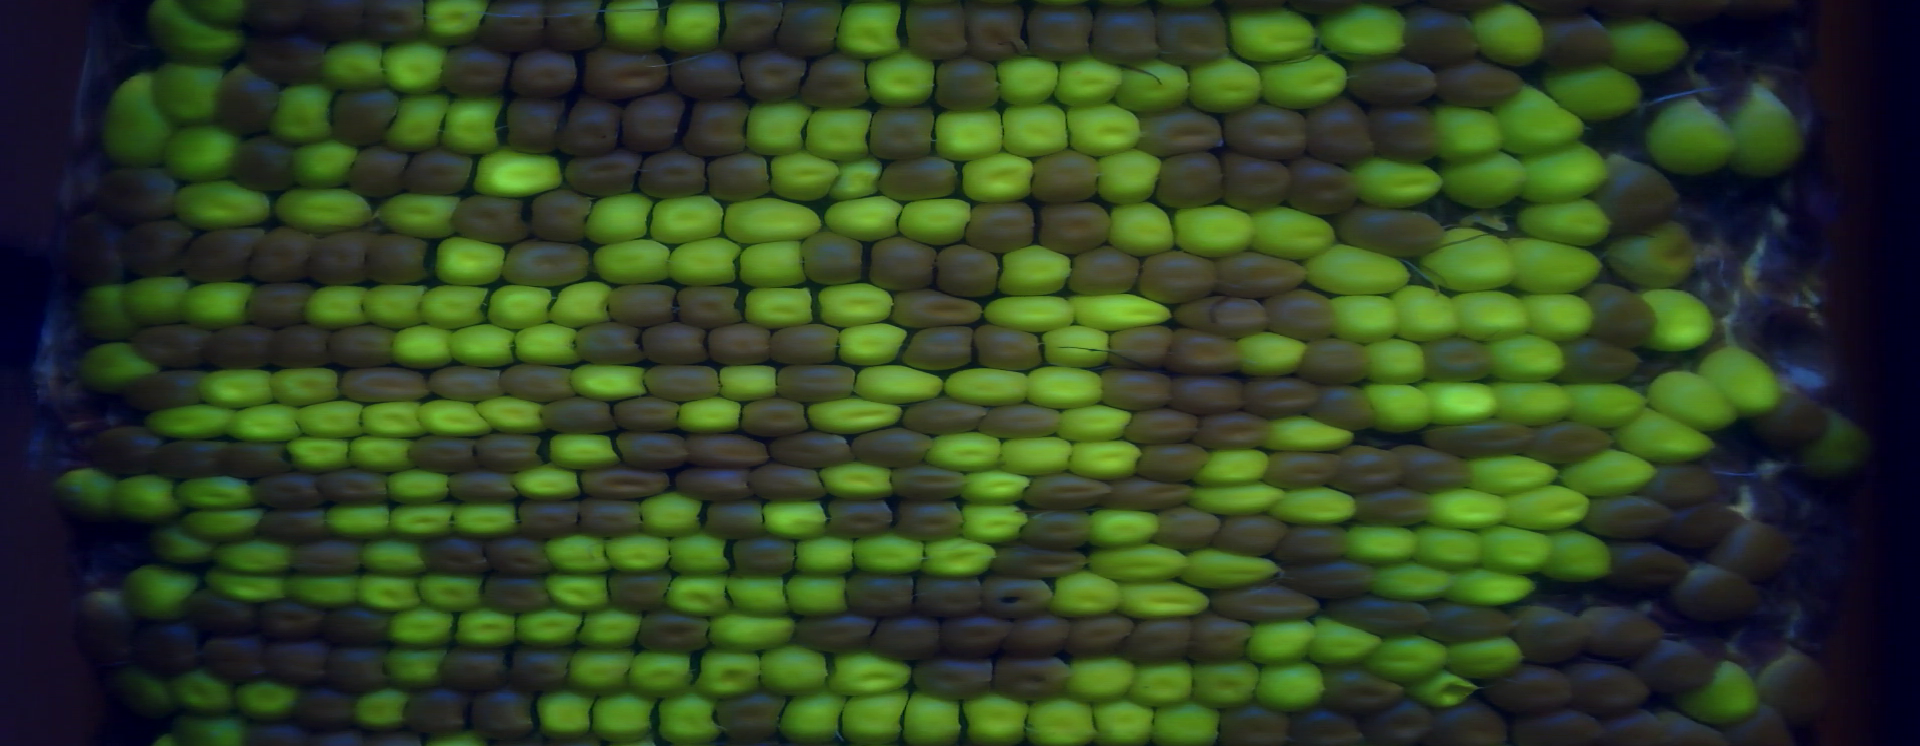fluorescent: (1733, 78, 1805, 180), (1798, 401, 1877, 492), (1653, 102, 1747, 176), (140, 1, 250, 65), (1609, 222, 1700, 296), (1613, 402, 1717, 465), (98, 73, 171, 163), (1221, 1, 1319, 67), (1598, 15, 1695, 80), (1493, 85, 1581, 156), (1646, 369, 1740, 434), (1471, 1, 1551, 76), (1502, 233, 1602, 293), (1267, 477, 1367, 537), (1427, 227, 1521, 289), (1509, 197, 1620, 250), (1679, 661, 1766, 728), (469, 145, 568, 201), (1318, 6, 1412, 65), (1300, 244, 1411, 294), (1438, 149, 1528, 209), (173, 179, 276, 232), (975, 285, 1085, 334), (1704, 345, 1780, 416), (1518, 145, 1608, 205), (1543, 67, 1644, 120), (928, 104, 1011, 167), (1259, 55, 1351, 111), (719, 196, 829, 243), (272, 183, 371, 234), (1069, 285, 1173, 334), (1251, 205, 1340, 262), (1173, 205, 1262, 261), (1537, 528, 1619, 589), (1490, 369, 1580, 424), (1081, 546, 1198, 588), (371, 189, 463, 241), (1640, 288, 1716, 352), (800, 107, 878, 168), (1449, 287, 1536, 342), (1051, 51, 1130, 111), (1555, 450, 1660, 495), (1179, 545, 1278, 593), (1368, 632, 1453, 687), (587, 688, 669, 746), (1431, 99, 1505, 163), (1357, 376, 1436, 435), (1364, 555, 1460, 604), (151, 61, 227, 122), (852, 359, 949, 407), (1420, 488, 1515, 537), (1389, 282, 1460, 347), (1243, 619, 1321, 677), (650, 192, 729, 251), (1310, 612, 1382, 676), (956, 692, 1041, 746), (828, 648, 918, 698), (1318, 289, 1406, 341), (1517, 290, 1603, 343), (836, 688, 915, 746), (163, 118, 238, 178), (1420, 375, 1507, 426), (430, 230, 511, 285), (943, 359, 1038, 405), (1101, 200, 1178, 257), (1000, 100, 1071, 163), (958, 153, 1040, 207), (1356, 156, 1445, 205), (774, 688, 850, 746), (269, 81, 339, 143), (1060, 102, 1141, 156), (820, 194, 905, 245), (1464, 451, 1569, 492), (1058, 650, 1136, 706), (180, 274, 258, 330), (1187, 59, 1262, 115), (1116, 579, 1215, 622), (1189, 655, 1266, 710), (896, 194, 975, 247), (732, 240, 811, 294), (1445, 563, 1533, 611), (1024, 363, 1109, 412), (632, 489, 711, 541), (1117, 61, 1193, 116), (1441, 638, 1531, 685), (1262, 414, 1365, 454), (289, 138, 367, 191), (863, 51, 938, 107), (624, 646, 699, 701), (1564, 379, 1649, 426), (1046, 570, 1131, 617), (1093, 151, 1166, 207), (386, 93, 453, 153), (1018, 695, 1096, 746), (894, 687, 962, 746), (111, 472, 186, 526), (662, 568, 737, 622), (996, 246, 1078, 295), (1040, 322, 1119, 372), (1489, 332, 1569, 382), (707, 608, 800, 650), (651, 684, 715, 746), (1365, 331, 1433, 390), (812, 281, 899, 326), (213, 534, 300, 579), (1251, 664, 1330, 714), (1477, 523, 1551, 576), (122, 565, 197, 617), (697, 646, 769, 699), (1499, 483, 1584, 528), (567, 356, 653, 402), (1145, 696, 1222, 746), (415, 279, 489, 332), (53, 465, 121, 522), (1187, 481, 1288, 519), (602, 1, 672, 56), (478, 390, 547, 445), (448, 604, 527, 653), (1127, 655, 1198, 709), (564, 644, 636, 698), (542, 429, 624, 475), (506, 604, 588, 650), (446, 323, 523, 372), (1342, 521, 1425, 566), (186, 499, 269, 544), (119, 277, 200, 323), (109, 665, 179, 719), (438, 92, 500, 153), (1233, 328, 1311, 376), (758, 644, 836, 692), (589, 236, 673, 281), (991, 58, 1067, 107), (1406, 666, 1485, 713), (381, 320, 454, 370), (918, 532, 996, 579), (299, 281, 376, 328), (989, 435, 1078, 477), (599, 530, 680, 576), (361, 281, 432, 332), (767, 151, 839, 201), (804, 392, 900, 430), (924, 428, 1007, 472), (744, 281, 818, 330), (842, 1, 905, 59), (660, 1, 725, 56), (580, 192, 651, 243), (140, 401, 236, 437), (81, 339, 159, 385), (508, 322, 587, 367), (381, 39, 449, 91), (744, 99, 807, 156), (720, 571, 790, 621), (1086, 696, 1156, 746), (169, 669, 239, 719), (835, 322, 912, 367), (1412, 522, 1489, 567), (953, 502, 1030, 548), (1063, 437, 1144, 480), (416, 396, 497, 439), (321, 39, 389, 89), (533, 687, 601, 737), (675, 393, 748, 440), (669, 529, 733, 582), (507, 463, 587, 506), (78, 284, 146, 334), (1051, 403, 1136, 442), (816, 462, 901, 501), (760, 492, 829, 541), (195, 367, 283, 405), (358, 394, 429, 441), (354, 566, 425, 612), (781, 570, 849, 619), (1198, 446, 1276, 488), (231, 677, 301, 724), (574, 601, 640, 650), (489, 281, 553, 330), (850, 533, 931, 572), (353, 684, 413, 736), (343, 434, 418, 475), (552, 283, 621, 328), (269, 358, 338, 403), (422, 1, 489, 48), (449, 499, 520, 541), (384, 497, 457, 539), (546, 527, 609, 575), (358, 535, 433, 575), (542, 570, 610, 614), (222, 403, 305, 439), (388, 465, 459, 507), (326, 499, 397, 540), (382, 643, 447, 688), (217, 568, 291, 608), (154, 519, 216, 567), (718, 361, 784, 405), (175, 710, 257, 746), (170, 472, 249, 508), (387, 608, 457, 648), (284, 573, 366, 608), (791, 537, 861, 576), (1086, 508, 1155, 548), (418, 571, 481, 611), (283, 435, 350, 473), (958, 470, 1036, 502), (296, 402, 366, 437), (830, 153, 883, 200), (176, 1, 249, 31)
nonfluorescent: (1599, 157, 1685, 236), (1330, 206, 1447, 262), (1145, 4, 1236, 73), (1311, 657, 1408, 720), (1395, 1, 1487, 67), (1363, 96, 1449, 165), (1671, 562, 1764, 624), (1758, 388, 1836, 461), (1138, 243, 1220, 309), (1712, 516, 1795, 579), (1015, 1, 1095, 67), (872, 147, 965, 203), (1559, 657, 1651, 713), (1322, 590, 1433, 637), (1762, 655, 1836, 725), (577, 47, 676, 98), (951, 1, 1030, 66), (1221, 103, 1309, 160), (1423, 416, 1538, 461), (1480, 666, 1583, 715), (181, 227, 268, 284), (1213, 579, 1318, 627), (1089, 1, 1163, 67), (866, 99, 942, 164), (500, 236, 595, 288), (1631, 632, 1709, 695), (900, 1, 975, 66), (960, 197, 1038, 258), (1512, 604, 1596, 661), (1526, 416, 1613, 472), (1134, 107, 1227, 158), (1586, 282, 1658, 348), (869, 233, 944, 296), (885, 283, 987, 330), (1307, 99, 1376, 167), (866, 610, 953, 664), (1164, 293, 1262, 341), (616, 91, 691, 153), (1204, 246, 1307, 292), (707, 692, 797, 744), (913, 653, 998, 708), (471, 1, 552, 59), (62, 213, 124, 289), (779, 1, 849, 67), (431, 637, 511, 695), (467, 685, 544, 744), (1344, 58, 1441, 104), (1033, 197, 1109, 256), (1220, 149, 1287, 216), (1539, 13, 1618, 70), (1603, 538, 1678, 597), (1430, 58, 1522, 105), (1393, 439, 1480, 489), (1162, 325, 1248, 375), (637, 146, 711, 203), (125, 220, 200, 278), (682, 96, 749, 159), (476, 571, 557, 624), (1021, 472, 1120, 514), (667, 49, 752, 99), (1354, 696, 1439, 746), (96, 169, 186, 216), (1153, 148, 1224, 207), (242, 33, 334, 78), (1586, 494, 1675, 540), (216, 67, 280, 131), (80, 589, 132, 668), (1029, 149, 1103, 205), (324, 635, 393, 695), (1187, 610, 1256, 669), (182, 583, 266, 632), (200, 323, 280, 374), (1255, 284, 1336, 334), (800, 51, 873, 107), (798, 230, 866, 290), (931, 58, 1005, 111), (331, 92, 405, 146), (362, 230, 432, 288), (263, 635, 333, 692), (992, 541, 1091, 582), (913, 571, 989, 624), (1584, 606, 1660, 659), (844, 428, 934, 472), (336, 361, 429, 404), (504, 93, 568, 156), (899, 321, 976, 372), (197, 632, 274, 684), (708, 146, 781, 200), (562, 151, 651, 195), (1297, 334, 1371, 387), (719, 1, 789, 58), (735, 394, 817, 442), (991, 653, 1073, 701), (451, 195, 527, 246), (1063, 244, 1139, 295), (256, 593, 332, 644), (938, 614, 1011, 666), (1653, 457, 1727, 510), (738, 51, 808, 107), (129, 322, 218, 365), (680, 428, 771, 469), (504, 50, 587, 97), (1431, 699, 1513, 746), (1283, 157, 1356, 209), (573, 465, 676, 502), (722, 532, 800, 581), (1561, 336, 1638, 385), (1237, 371, 1320, 416), (558, 103, 628, 157), (91, 423, 160, 477), (1506, 710, 1611, 746), (791, 610, 878, 653), (637, 610, 721, 654), (1109, 473, 1191, 518), (1309, 381, 1381, 432), (1422, 603, 1513, 643), (400, 684, 469, 737), (1059, 610, 1133, 660), (1671, 502, 1749, 550), (845, 570, 920, 619), (1000, 614, 1071, 665), (936, 241, 1002, 296), (978, 402, 1065, 443), (1213, 702, 1296, 746), (973, 320, 1043, 371), (1129, 615, 1195, 669), (1270, 519, 1348, 565), (132, 627, 204, 676), (538, 392, 613, 439), (763, 428, 856, 465), (1281, 557, 1374, 595), (527, 187, 589, 244), (642, 361, 729, 402), (120, 372, 209, 412), (402, 146, 479, 191), (1098, 363, 1176, 408), (1210, 512, 1284, 559), (1348, 486, 1431, 528), (1337, 442, 1404, 494), (152, 435, 230, 479), (234, 134, 294, 191), (673, 282, 746, 330), (264, 322, 337, 370), (250, 228, 315, 281), (746, 461, 828, 502), (677, 462, 759, 503), (767, 323, 844, 367), (638, 318, 709, 366), (982, 570, 1053, 617), (481, 534, 556, 579), (307, 228, 369, 283), (885, 458, 969, 499), (320, 603, 400, 644), (891, 496, 964, 543), (468, 428, 544, 472), (822, 496, 898, 540), (573, 318, 643, 366), (1425, 341, 1499, 386), (771, 363, 858, 401), (1104, 322, 1172, 371), (296, 684, 364, 733), (1654, 706, 1735, 746), (313, 465, 389, 508), (331, 321, 400, 367), (242, 281, 316, 325), (506, 646, 572, 695), (1171, 371, 1245, 414), (509, 499, 584, 541), (358, 1, 431, 44), (442, 47, 509, 93), (1191, 409, 1269, 450), (422, 363, 504, 401), (1262, 450, 1344, 488), (1288, 704, 1363, 746), (601, 570, 673, 612), (707, 321, 773, 367), (497, 361, 576, 401), (1124, 403, 1202, 442), (602, 284, 676, 326), (703, 496, 770, 541), (1022, 505, 1093, 548), (549, 1, 606, 54), (606, 397, 684, 435), (612, 432, 691, 470), (306, 1, 380, 42), (572, 497, 645, 538), (349, 148, 409, 197), (219, 439, 296, 477), (295, 537, 370, 576), (901, 401, 992, 432), (418, 535, 491, 575), (1158, 502, 1216, 551), (410, 434, 481, 473), (451, 469, 520, 508), (1139, 434, 1205, 474), (251, 470, 321, 507), (260, 510, 328, 546), (1728, 712, 1795, 746), (1599, 713, 1667, 746), (253, 1, 311, 36), (249, 719, 302, 746), (298, 725, 359, 746)
